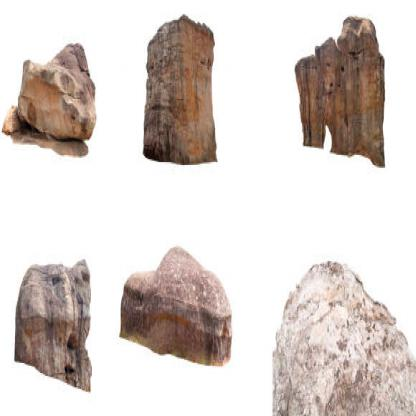Metamorphic_Marble: (267, 242, 415, 415), (134, 0, 233, 181), (1, 6, 101, 178), (296, 0, 394, 171), (124, 238, 249, 367), (10, 229, 100, 396)
